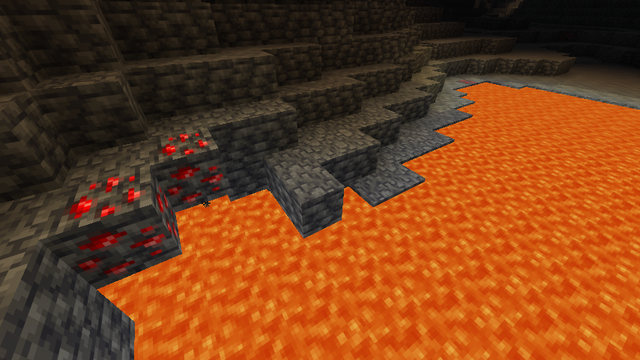redstone: (57, 123, 227, 299), (458, 78, 479, 88)
